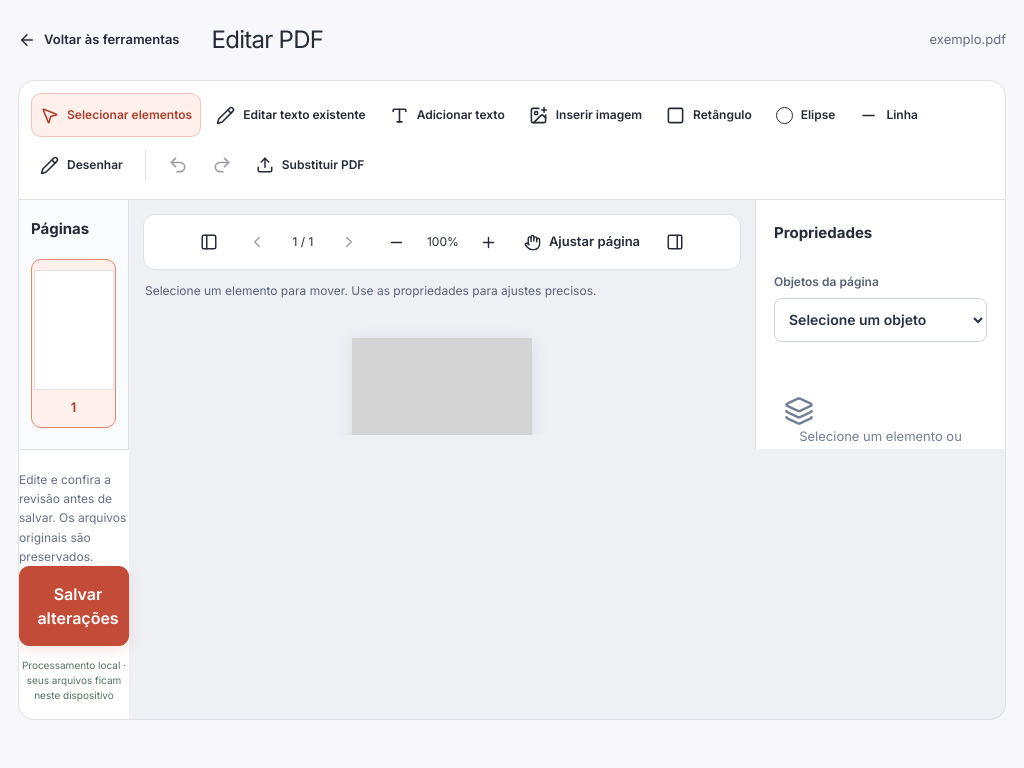
Test: mostra motivo do objeto incompatível sem abrir edição
The image size is (1024, 768).
Click the button "Editar texto existente": x=291, y=115 [207,93,375,137]
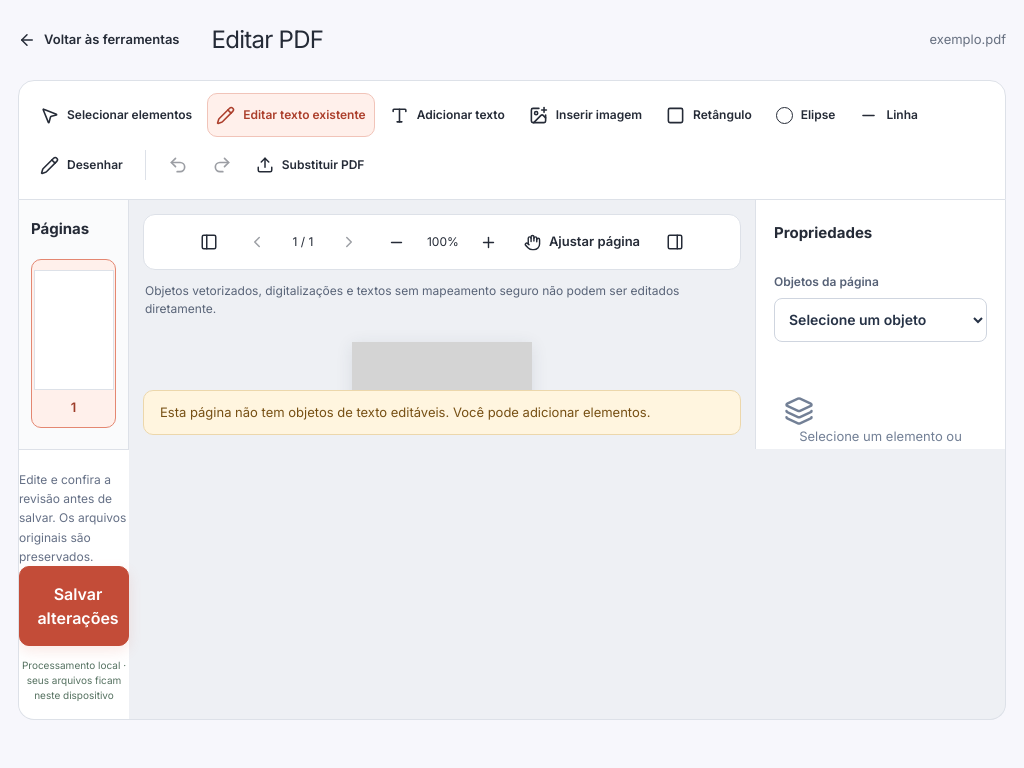
Select "Texto antigo" in the dropdown labelled "Objetos da página": x=880, y=320 [774,298,987,342]
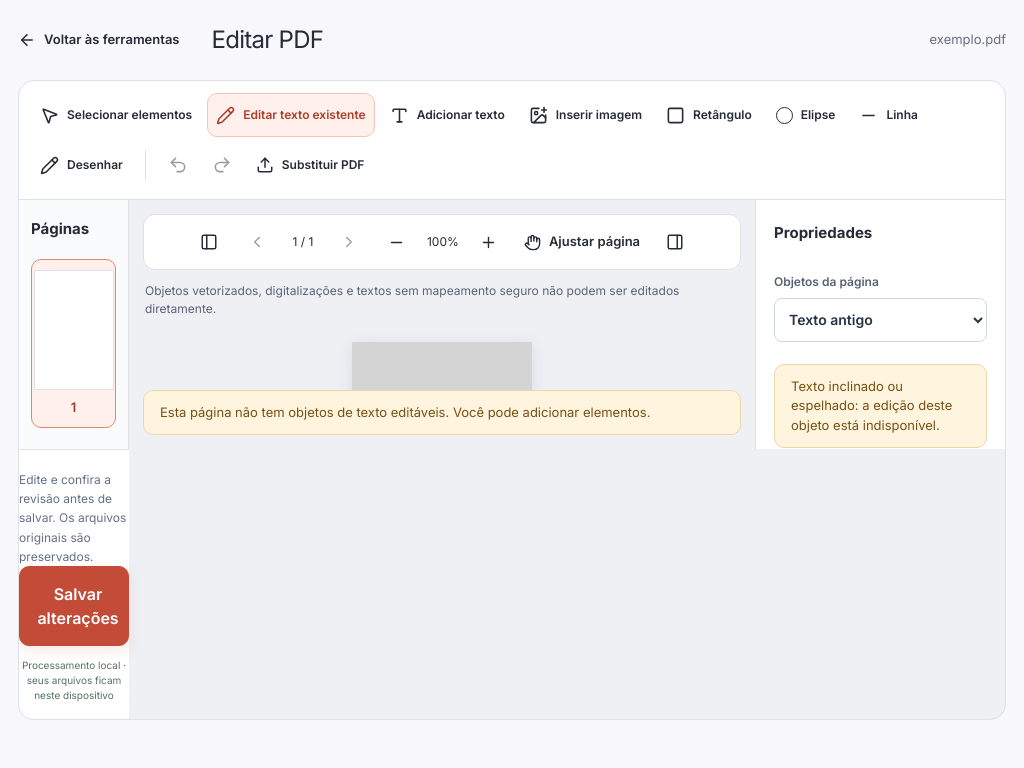
Expected: the text "Texto inclinado ou espelhado: a edição deste objeto está indisponível." is shown, [774,364,987,448]
